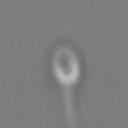normal: (55, 87, 92, 128)
